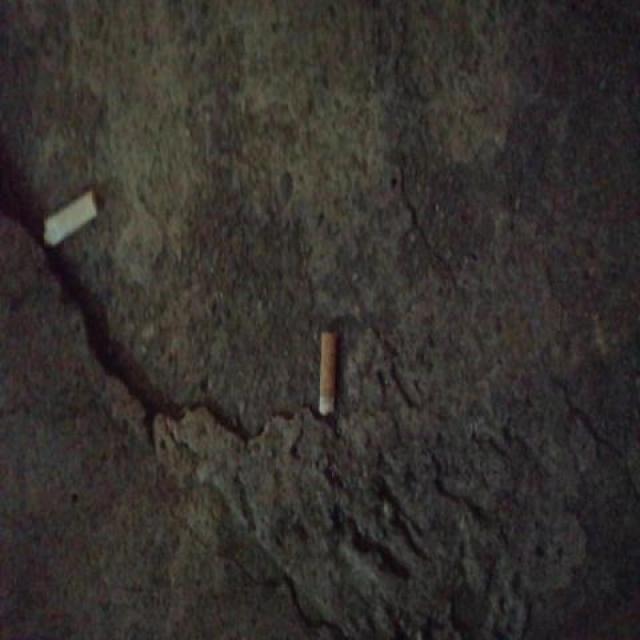non-organic waste: (40, 180, 104, 253), (314, 329, 342, 418)
